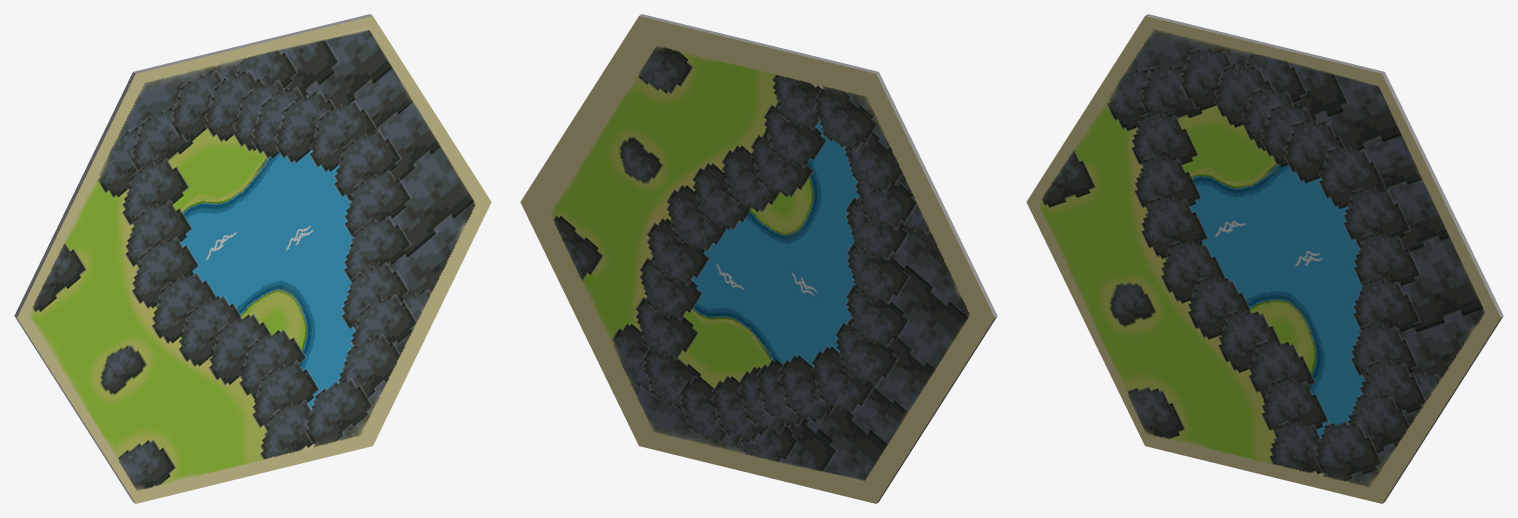
Rendered from Ore_Map.FBX.
The picture shows the model from 3 angles, left to right: view 1: azimuth 30°, elevation 25°; view 2: azimuth 150°, elevation 25°; view 3: azimuth 330°, elevation 25°; orthographic projection.
Visible parts, largest first — view 1: Gengon001; view 2: Gengon001; view 3: Gengon001.
Boxes of the visible parts, x1,y1,x2,y2 form: Gengon001: (14,14,491,503); Gengon001: (520,14,997,503); Gengon001: (1026,14,1503,503).
Bounding box in the file's own units: 20 × 0.2 × 17.32.
Materials: 3 (2 with a texture image).
